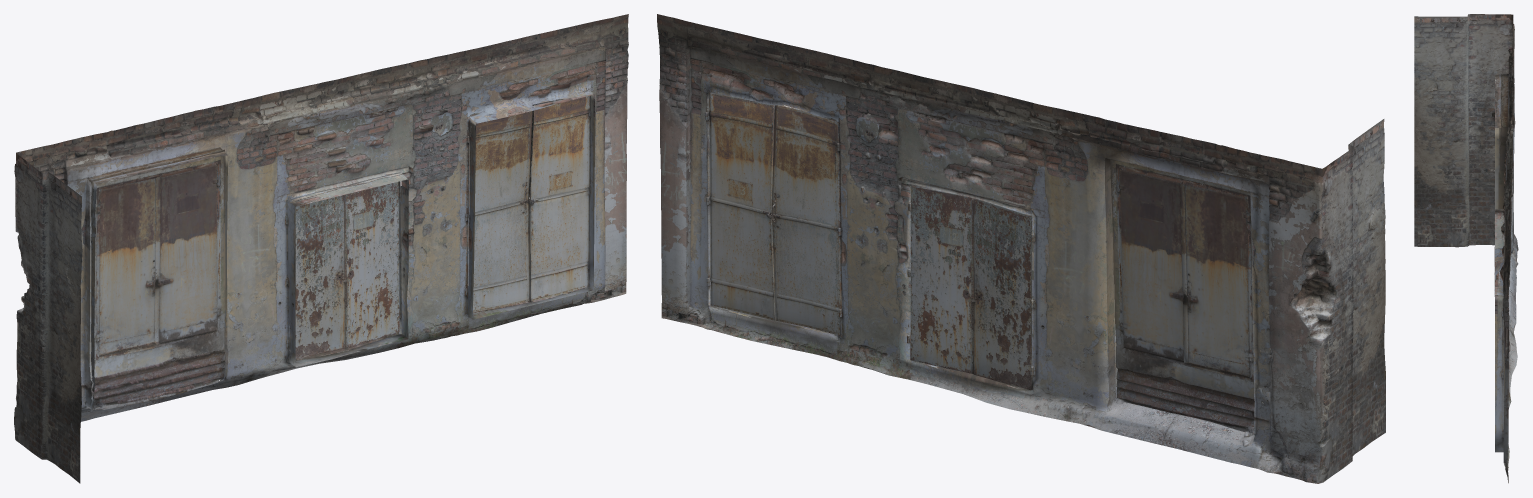
The model's file is sm_Wall_05_01.fbx.
3 views of the same model, side by side, from view 1: azimuth 30°, elevation 25°; view 2: azimuth 150°, elevation 25°; view 3: azimuth 270°, elevation 25° (orthographic). The views are drawn at different scales.
Visible parts, largest first — view 1: sm_Wall_05_01_LOD0; view 2: sm_Wall_05_01_LOD0; view 3: sm_Wall_05_01_LOD0.
Part boxes in pixels (x1,y1,x2,y2): sm_Wall_05_01_LOD0: (14,14,628,483); sm_Wall_05_01_LOD0: (657,14,1385,483); sm_Wall_05_01_LOD0: (1414,14,1518,483).
Size of the model in its own units: 144 by 786 by 352.
